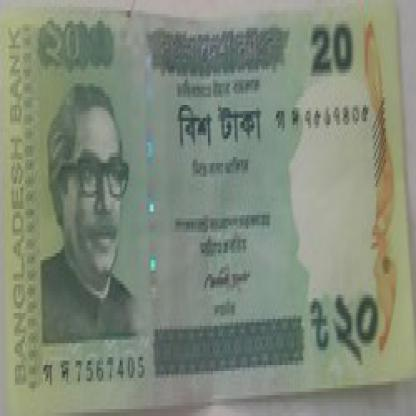Twenty: (32, 17, 133, 87), (311, 277, 391, 357), (313, 281, 389, 360), (173, 104, 266, 149), (300, 20, 360, 86)
